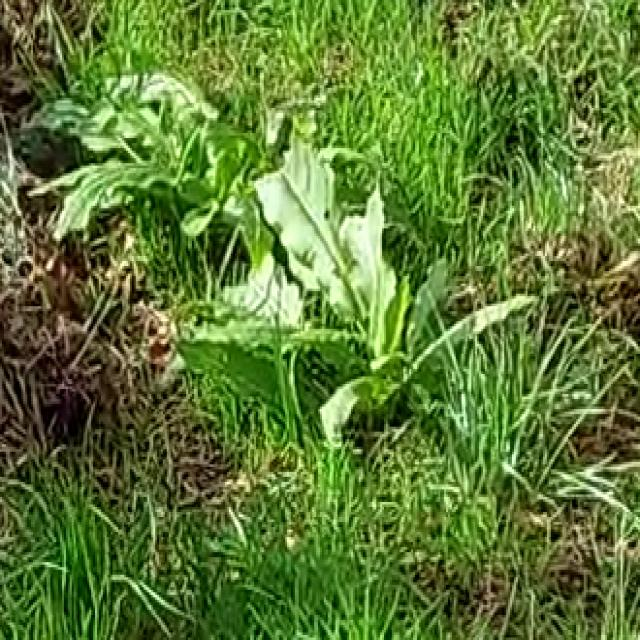organic waste: (184, 123, 479, 422), (74, 42, 320, 258)
